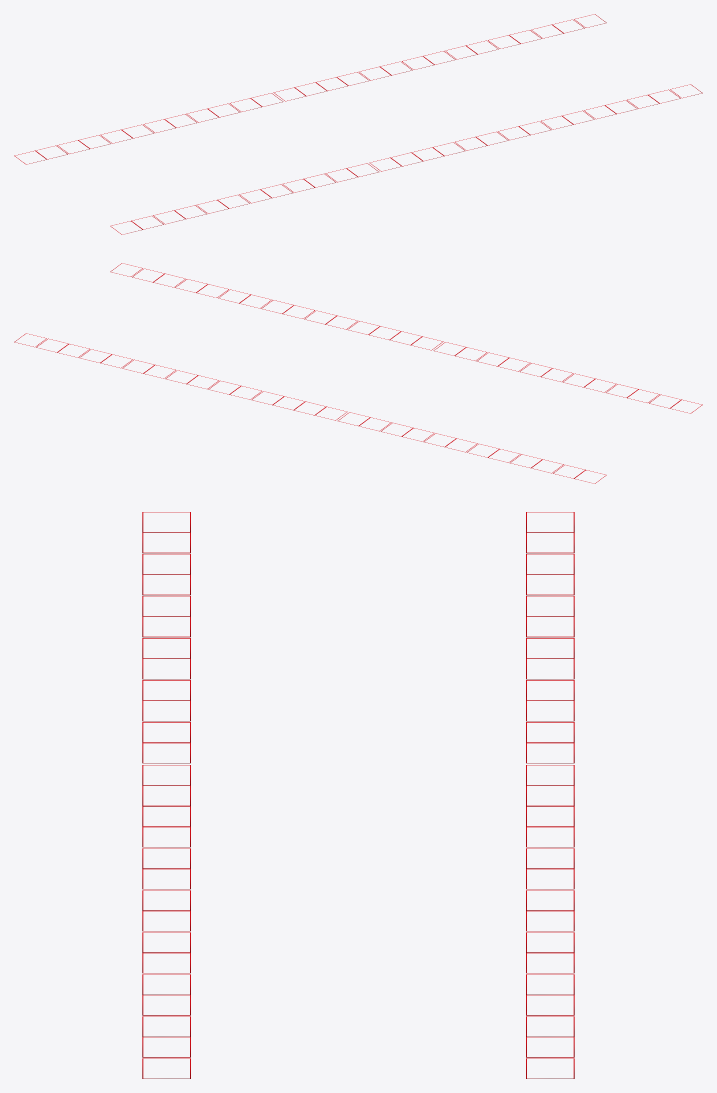
The model's file is sidewallseats3.fbx.
3 renders of one model, top to bottom at view 1: azimuth 30°, elevation 25°; view 2: azimuth 150°, elevation 25°; view 3: azimuth 270°, elevation 25°, orthographic. The views are drawn at different scales.
Bounding box in the file's own units: 1679 × 9.93e-06 × 541.
